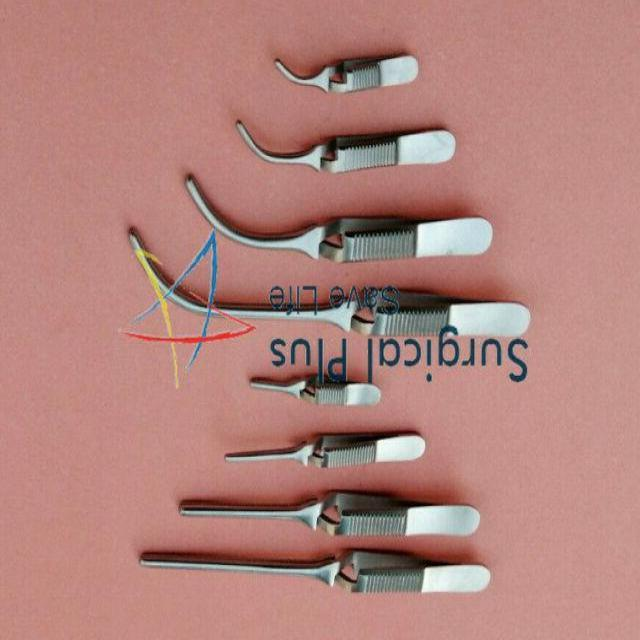Bulldog: (127, 226, 534, 343), (183, 170, 495, 266), (137, 544, 491, 600), (176, 488, 482, 542), (233, 115, 457, 177), (222, 426, 427, 472), (273, 50, 420, 97), (247, 374, 384, 411)
